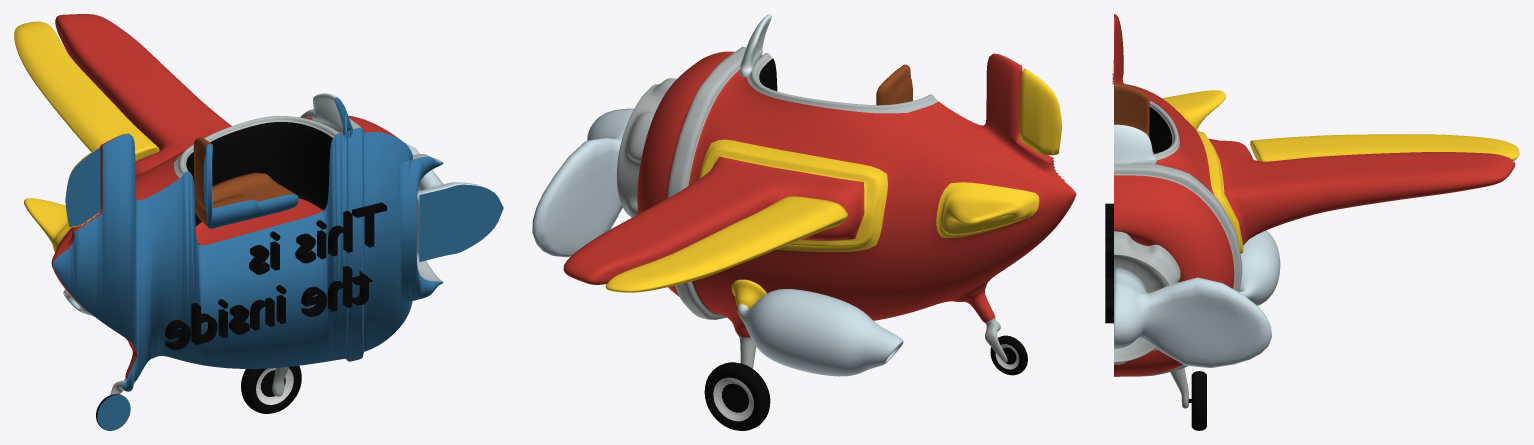
The model's file is avionHalf3.gltf.
3 renders of one model, left to right at view 1: azimuth 30°, elevation 25°; view 2: azimuth 150°, elevation 25°; view 3: azimuth 270°, elevation 25°, orthographic. The views are drawn at different scales.
Visible parts, largest first — view 1: Cylinder.010, Text; view 2: Cylinder.010; view 3: Cylinder.010, Text.
Boxes of the visible parts, box(x1,y1,x2,y2) form: Cylinder.010: box(14, 14, 503, 430); Text: box(165, 202, 386, 349); Cylinder.010: box(532, 14, 1076, 430); Cylinder.010: box(1112, 14, 1519, 430); Text: box(1105, 203, 1113, 323).
Size of the model in its own units: 8.59 by 6.55 by 7.58.
